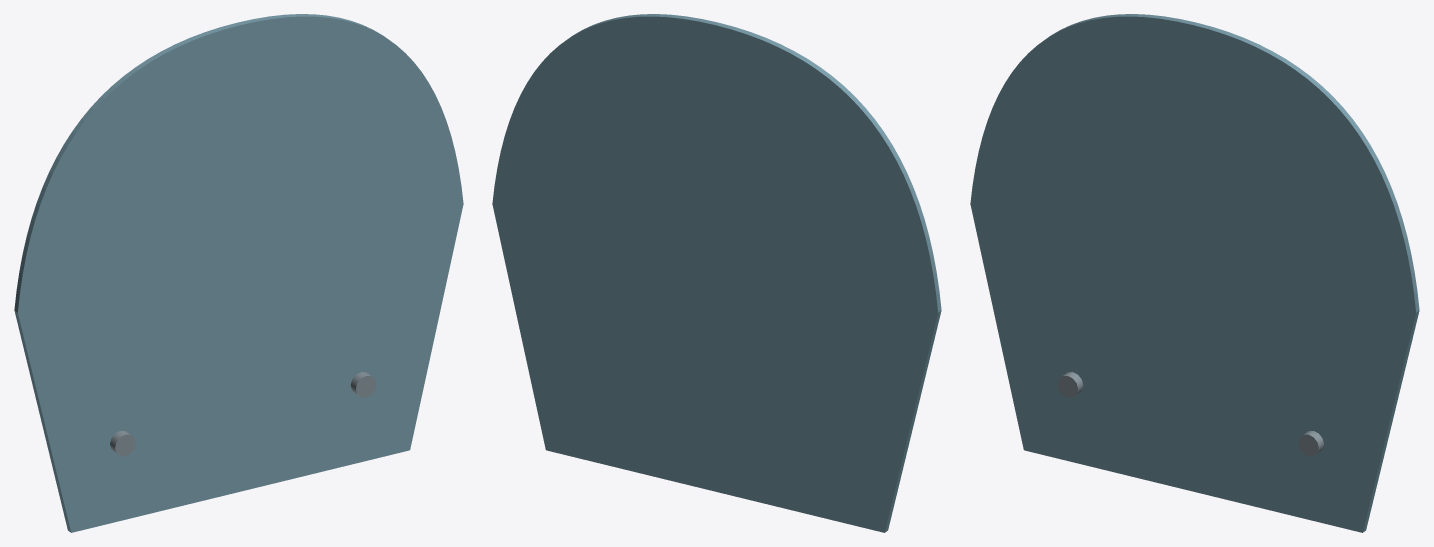
The model's file is windshield-short.glb.
3 renders of one model, left to right at view 1: azimuth 30°, elevation 25°; view 2: azimuth 150°, elevation 25°; view 3: azimuth 330°, elevation 25°, orthographic.
Visible parts, largest first — view 1: preset-windshield-short; view 2: preset-windshield-short; view 3: preset-windshield-short.
Part boxes in pixels (x1,y1,x2,y2): preset-windshield-short: (14, 14, 463, 532); preset-windshield-short: (492, 14, 941, 532); preset-windshield-short: (970, 14, 1419, 532).
Bounding box in the file's own units: 0.3 × 0.3 × 0.01.
